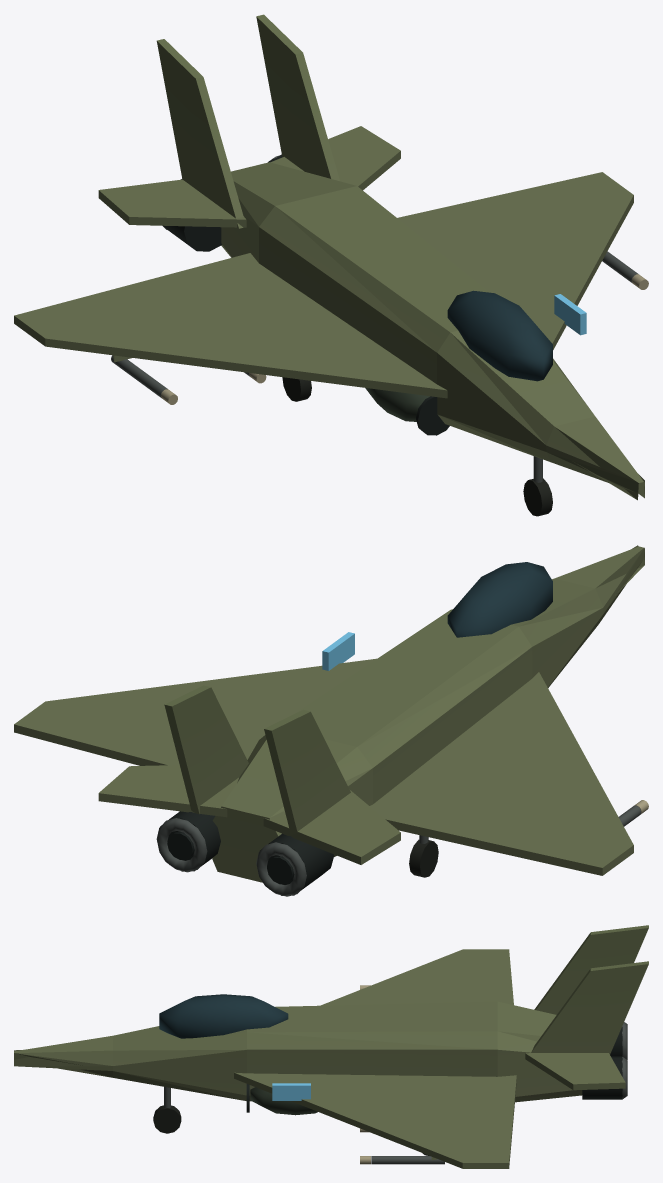
The model's file is fighter-lod.glb.
The picture shows the model from 3 angles, top to bottom: view 1: azimuth 30°, elevation 25°; view 2: azimuth 150°, elevation 25°; view 3: azimuth 270°, elevation 25°; orthographic projection. The views are drawn at different scales.
Visible parts, largest first — view 1: equipment (×2), marking; view 2: equipment (×2), marking; view 3: equipment (×2), marking.
Part boxes in pixels (x1,y1,x2,y2): equipment (×2): [14, 14, 648, 516]; marking: [554, 294, 586, 335]; equipment (×2): [14, 545, 648, 896]; marking: [322, 632, 354, 670]; equipment (×2): [14, 925, 648, 1168]; marking: [272, 1083, 310, 1100].
Size of the model in its own units: 6.5 by 2.64 by 8.17.
